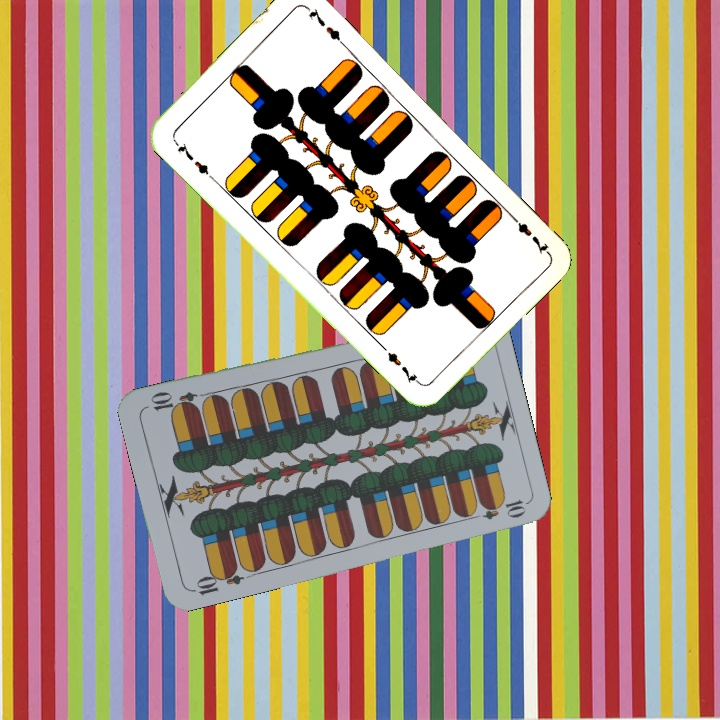E10: (187, 562, 246, 598)
E7: (505, 209, 552, 257), (170, 136, 216, 182)
